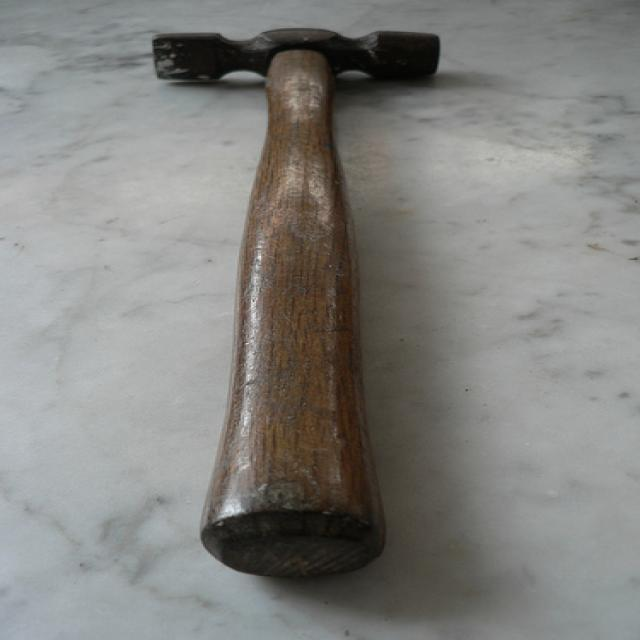hammer: (144, 18, 450, 590)
